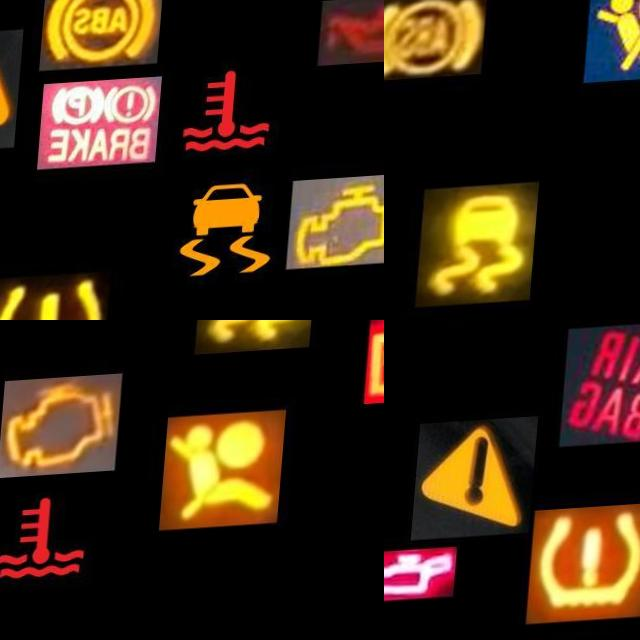Central Warning lamp: (420, 421, 545, 545), (0, 31, 28, 154)
Engine cooling system: (171, 54, 297, 178), (0, 476, 114, 600)
